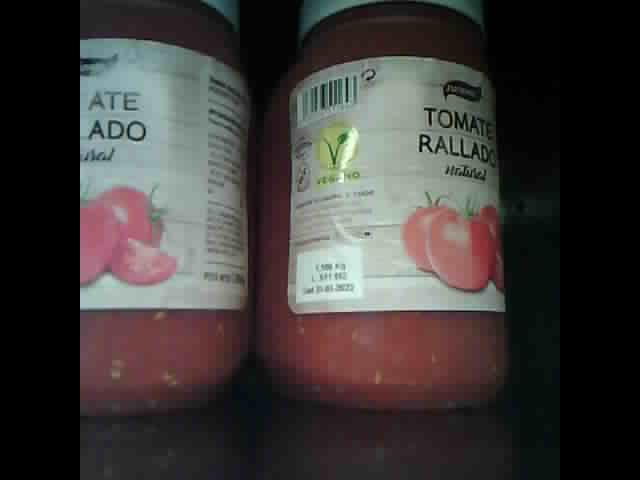tomate: (260, 1, 507, 408), (82, 4, 255, 417)
